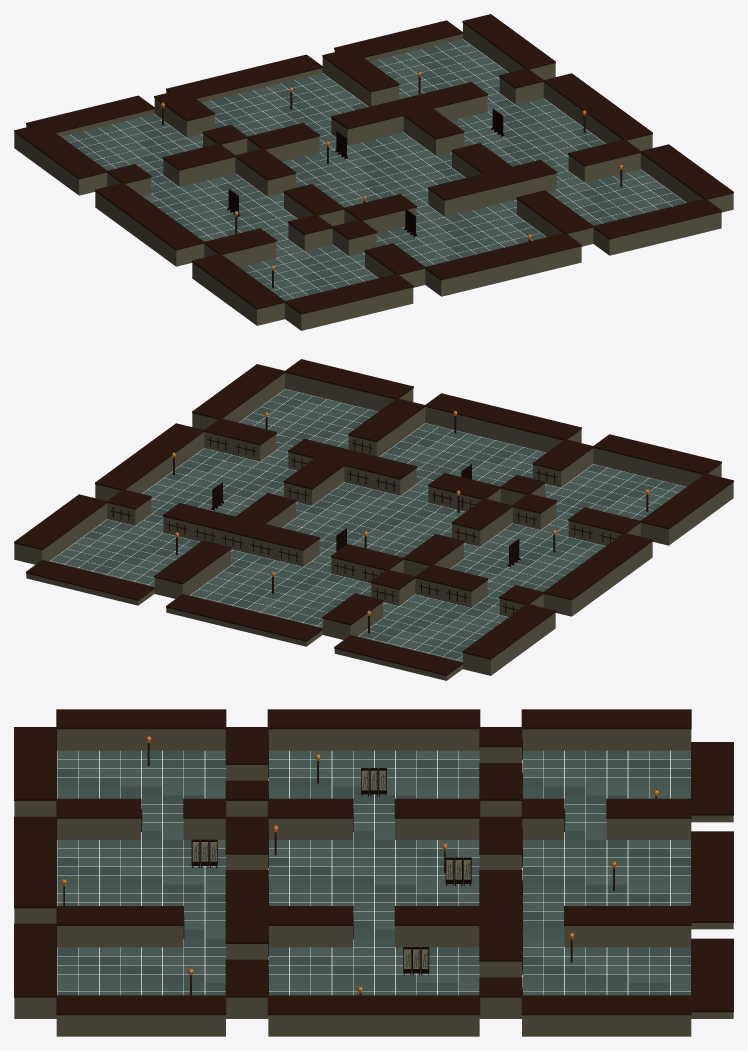
Rendered from chapter-2.glb.
3 renders of one model, top to bottom at view 1: azimuth 30°, elevation 25°; view 2: azimuth 150°, elevation 25°; view 3: azimuth 270°, elevation 25°, orthographic. The views are drawn at different scales.
Parts seen in each view (by area): view 1: 院墙, 青砖地面, 庭院陈设; view 2: 院墙, 青砖地面, 庭院陈设; view 3: 院墙, 青砖地面, 庭院陈设.
Part boxes in pixels (<box>): 院墙: <box>14,14,733,330</box>; 青砖地面: <box>61,39,686,300</box>; 庭院陈设: <box>161,70,623,287</box>; 院墙: <box>14,359,733,680</box>; 青砖地面: <box>50,389,686,662</box>; 庭院陈设: <box>172,409,649,633</box>; 院墙: <box>14,709,733,1036</box>; 青砖地面: <box>57,750,690,995</box>; 庭院陈设: <box>61,734,658,995</box>.
Size of the model in its own units: 34.04 by 1.62 by 34.04.
